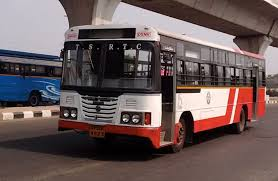bus: (57, 23, 268, 156)
